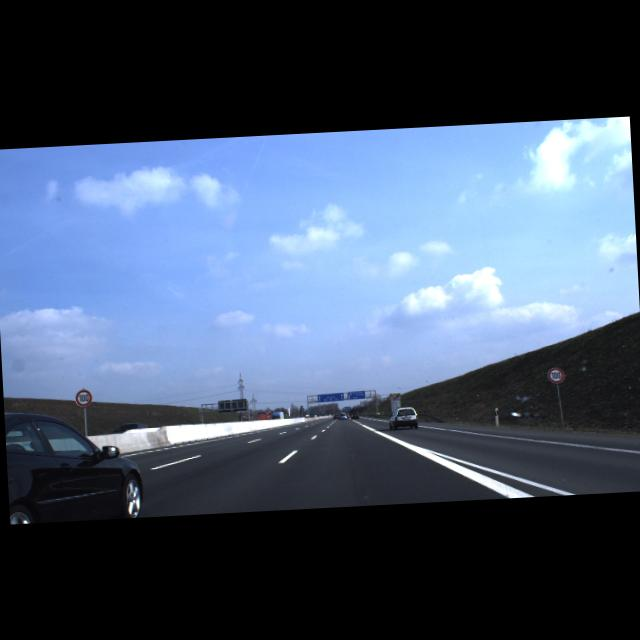prohibitory: (74, 388, 92, 406), (548, 366, 564, 383)
